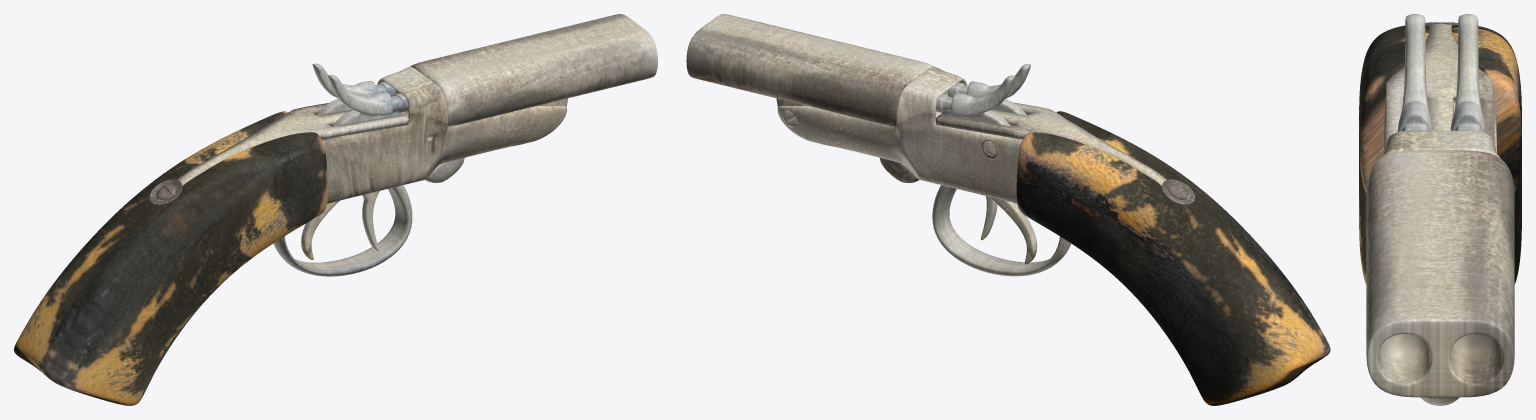
The model's file is modelo20.glb.
3 views of the same model, side by side, from view 1: azimuth 30°, elevation 25°; view 2: azimuth 150°, elevation 25°; view 3: azimuth 270°, elevation 25° (orthographic). The views are drawn at different scales.
Parts seen in each view (by area): view 1: 02 end; view 2: 02 end; view 3: 02 end.
Part boxes in pixels (bbox=[...]): 02 end: bbox=[14, 14, 657, 405]; 02 end: bbox=[686, 14, 1330, 405]; 02 end: bbox=[1359, 14, 1521, 405].
Bounding box in the file's own units: 6.62 × 2.83 × 0.9095.
1 material, 1 textured.
